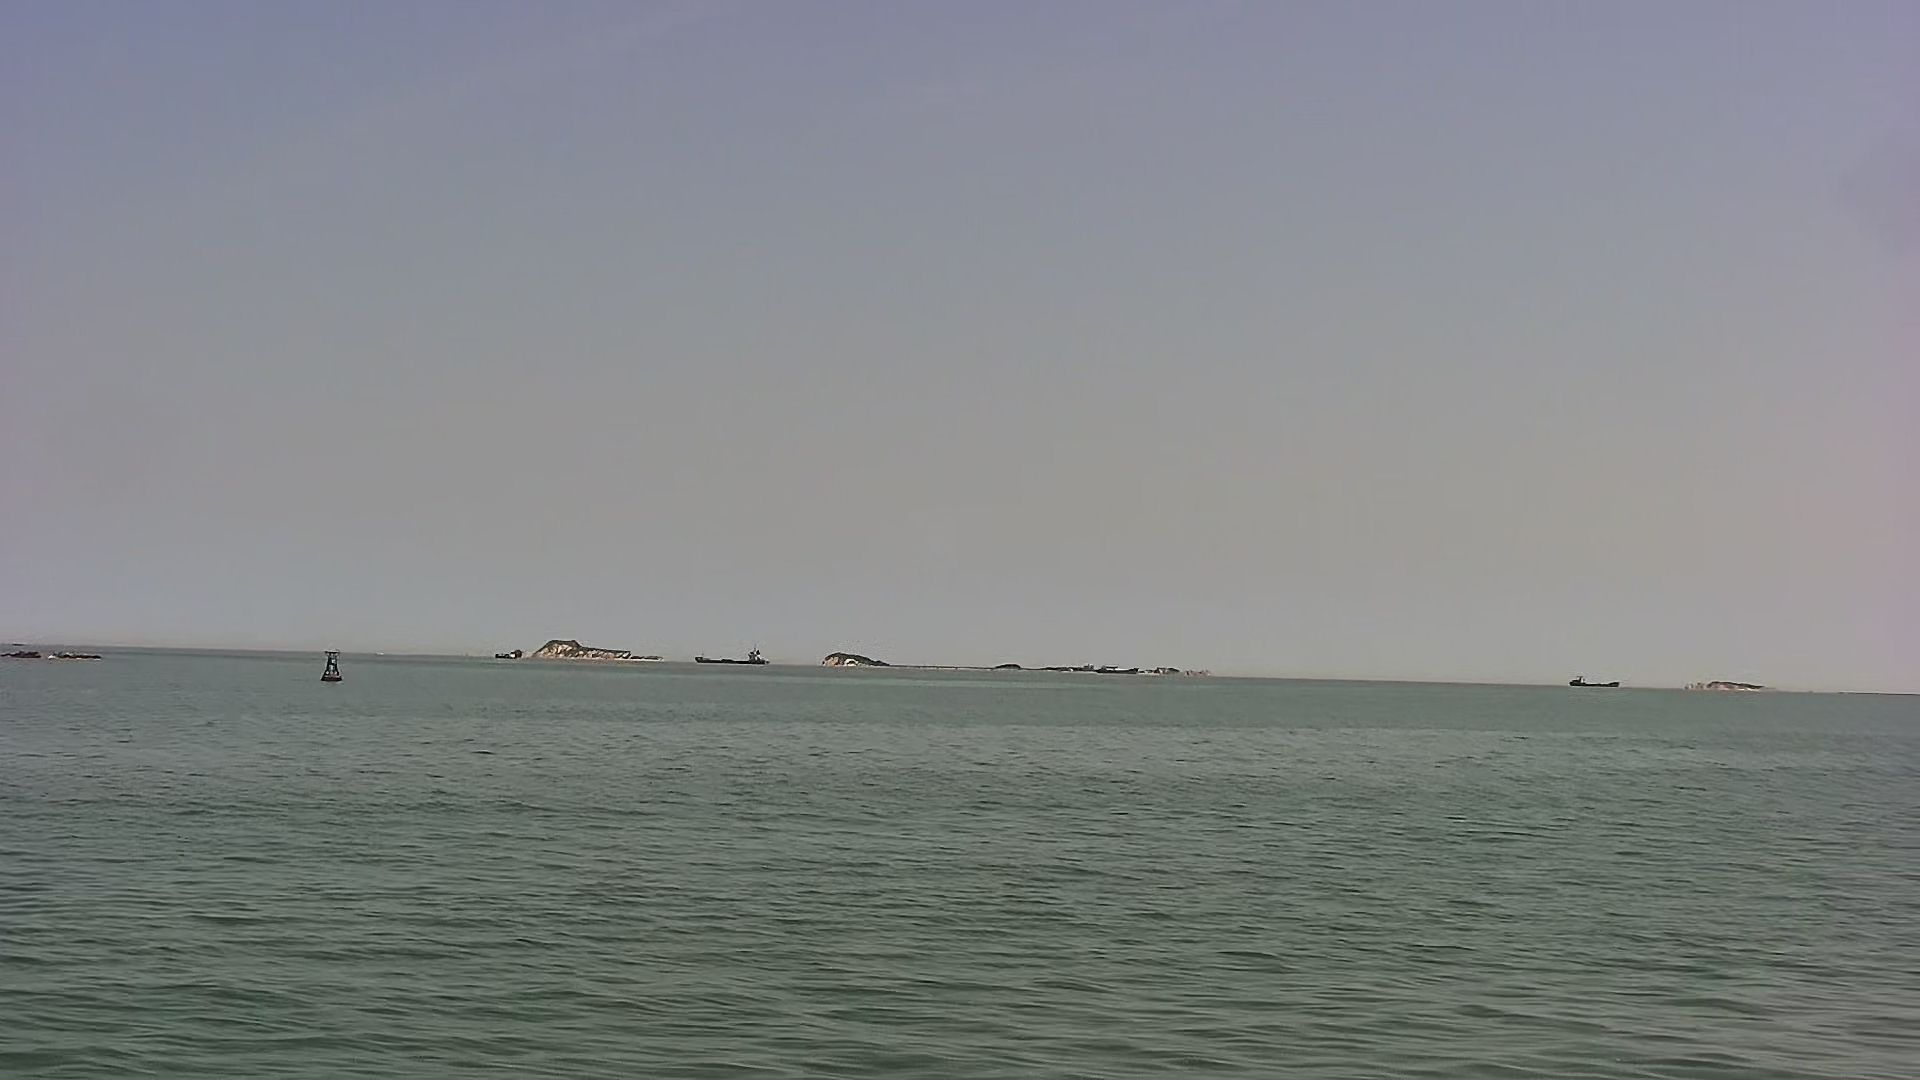buoy: (315, 649, 347, 686)
rock: (491, 636, 670, 665), (1681, 674, 1782, 698), (818, 645, 895, 671)
ship: (691, 644, 774, 669), (1569, 669, 1626, 690)
